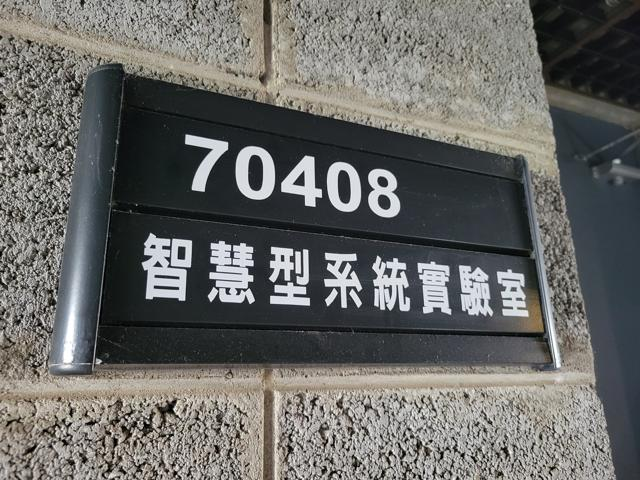doorplate: (41, 55, 567, 382)
